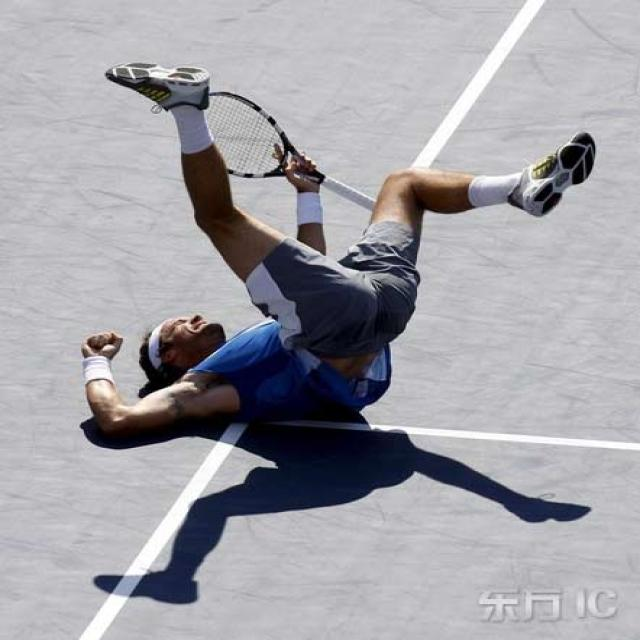down: (60, 45, 610, 462)
